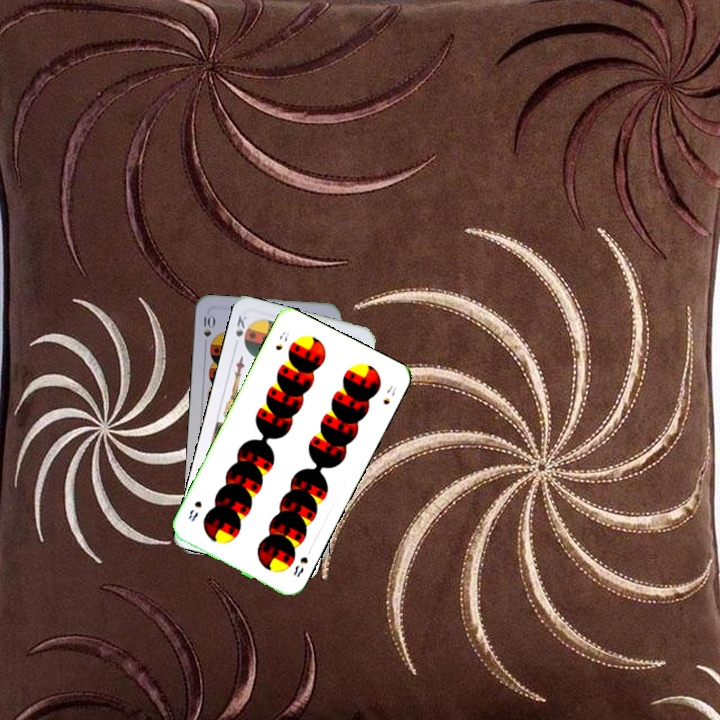S10: (199, 309, 217, 350)
S8: (289, 552, 311, 580), (271, 327, 292, 353)
SK: (231, 311, 249, 339)
